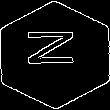N_E: (26, 35, 84, 75)
